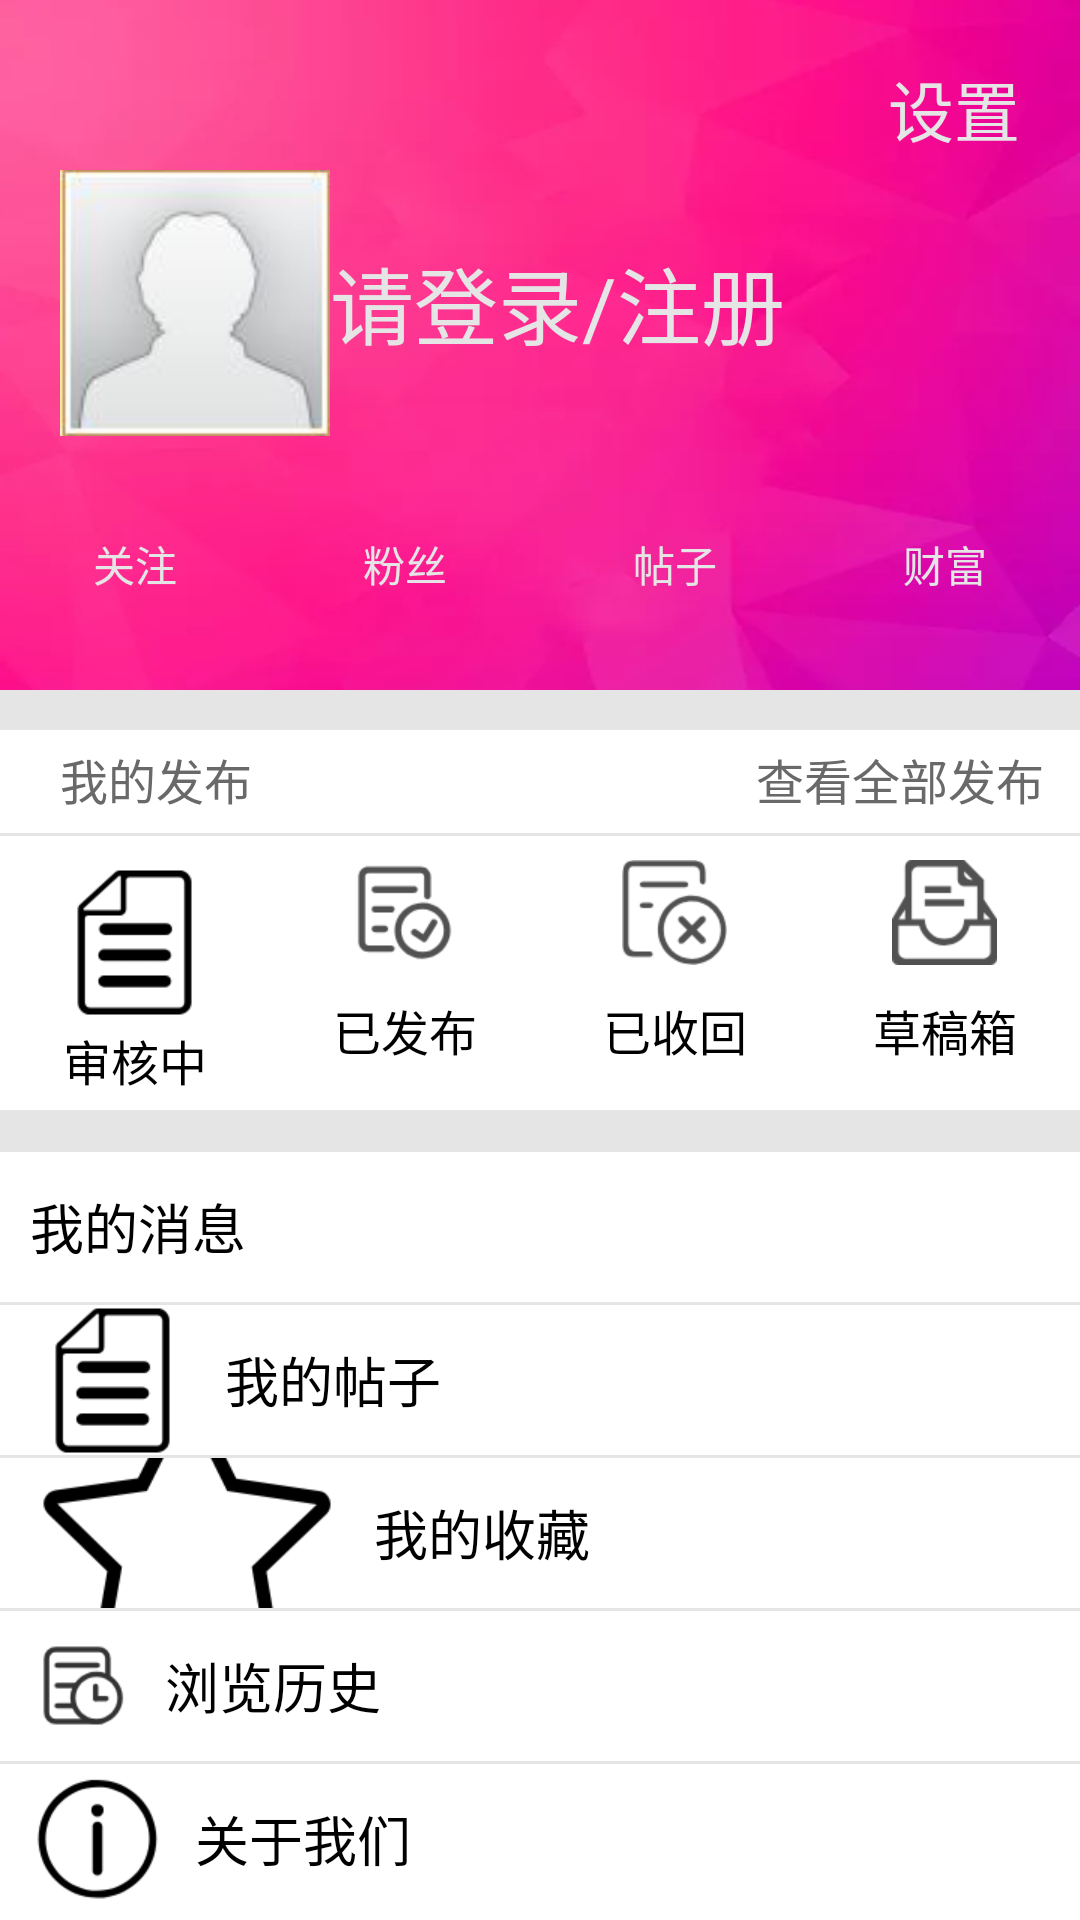

Where to tap for icons on this 1080x1920 app screen, as [x,y]:
mine photo: [195,304]
